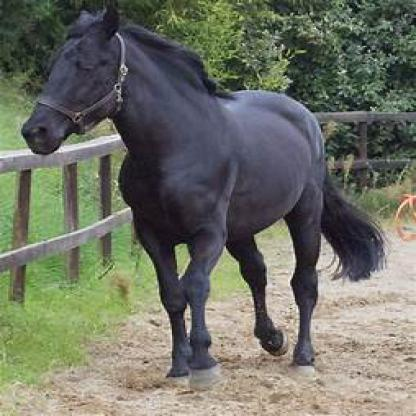horse: (21, 6, 390, 384)
